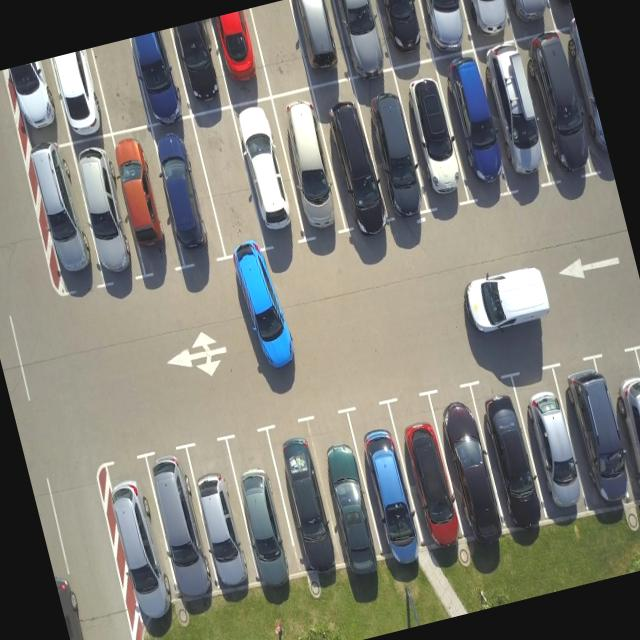car: (90, 454, 182, 638), (424, 376, 514, 550), (382, 386, 468, 560), (344, 397, 430, 569), (264, 414, 350, 584), (139, 443, 224, 614), (220, 424, 306, 592), (468, 366, 554, 534), (506, 362, 592, 528), (304, 407, 388, 576), (553, 366, 640, 527), (268, 84, 352, 247), (182, 434, 264, 600), (16, 140, 102, 298), (144, 116, 228, 277), (512, 36, 600, 186), (106, 122, 186, 282), (432, 55, 518, 203), (313, 77, 395, 232), (66, 132, 144, 290), (228, 98, 306, 255), (476, 45, 558, 192), (354, 72, 431, 222), (398, 70, 476, 216), (559, 30, 611, 170), (603, 350, 640, 533), (46, 47, 114, 144), (206, 8, 272, 105), (124, 28, 190, 123), (169, 17, 234, 113), (4, 58, 70, 152), (285, 0, 350, 86), (327, 0, 394, 80), (370, 0, 437, 65), (408, 0, 476, 56), (452, 0, 521, 47), (489, 0, 560, 42), (532, 0, 575, 26)
free: (190, 106, 270, 260), (247, 0, 314, 94), (89, 37, 154, 132)
